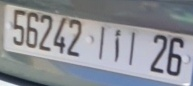2: (65, 17, 83, 56), (149, 34, 165, 75), (38, 14, 54, 51)
4: (52, 16, 67, 54)
5: (12, 8, 24, 48)
6: (167, 35, 185, 76), (25, 12, 39, 49)
a: (112, 27, 122, 63)
